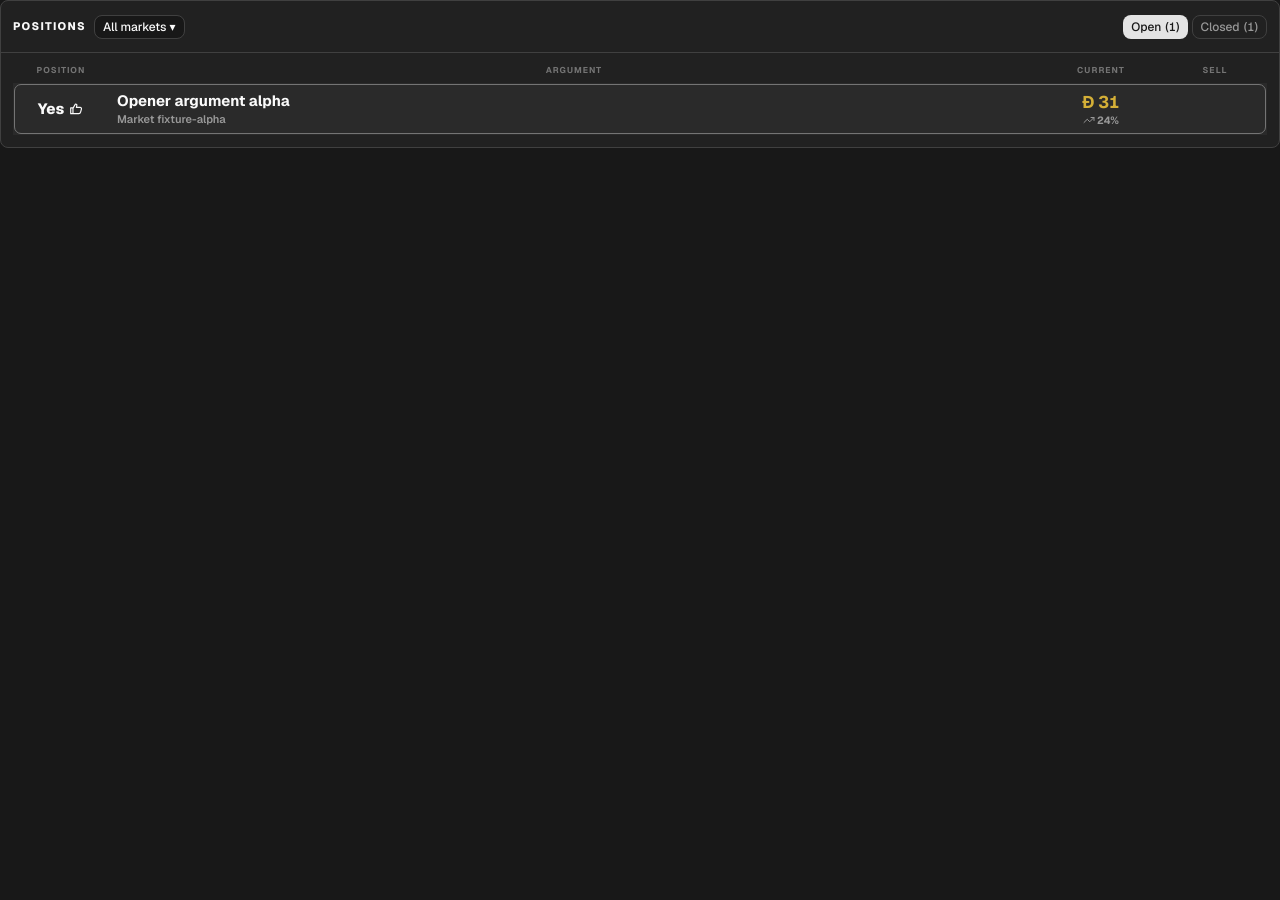
Test: HTML-FINISH profile rows 2 · 7 — the arena panels and their bars › row7a::click-OUT-closes-the-popover-canon-§5
Click the button with test id "positions-market-filter". click: point(139, 27)
box: 94,15 -> 184,39
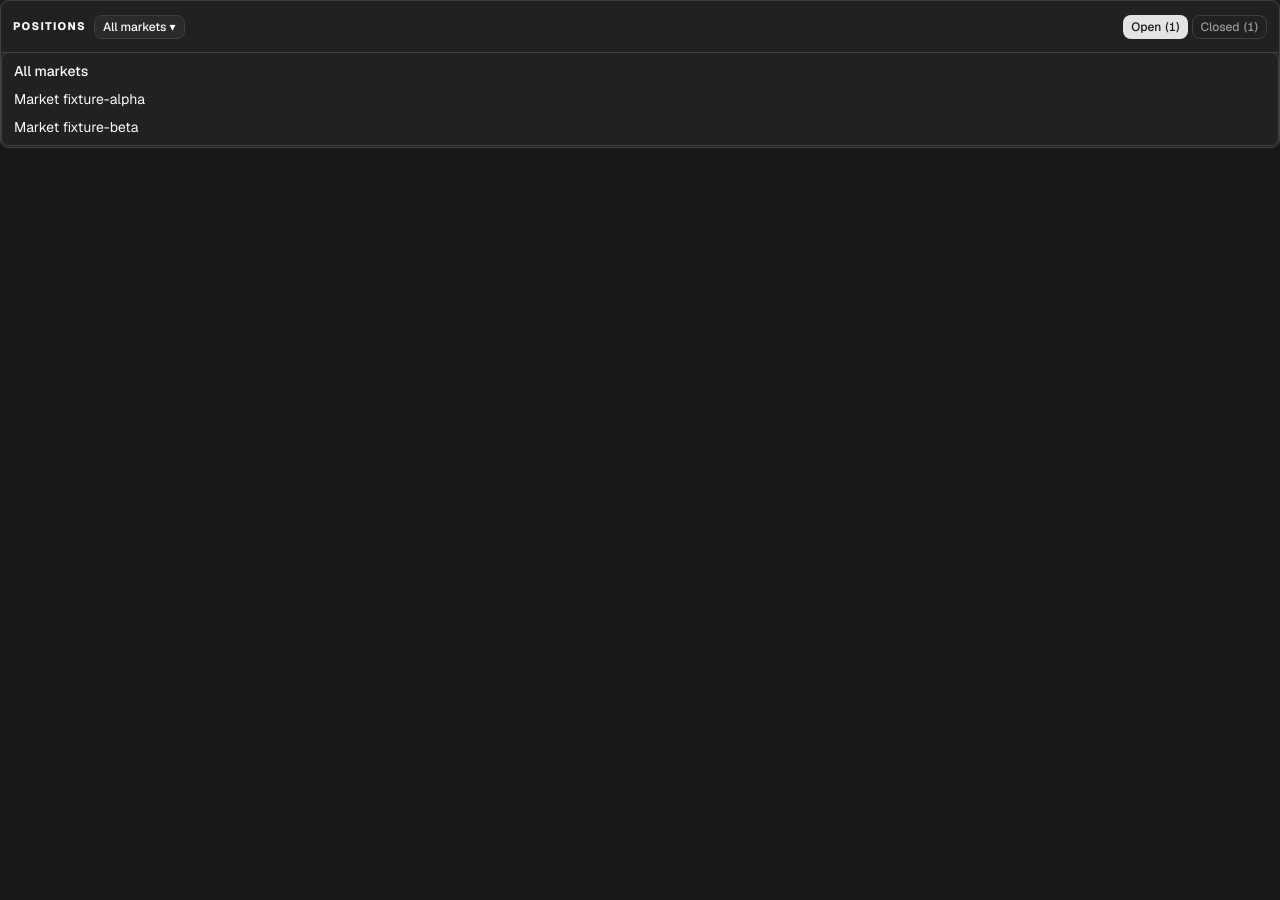
Expected: the list with test id "positions-market-popover" is shown, 1,52 -> 1279,146
Press the mouse on the element that starts with "Positions" at point(640, 450), box 0,0 -> 1279,899
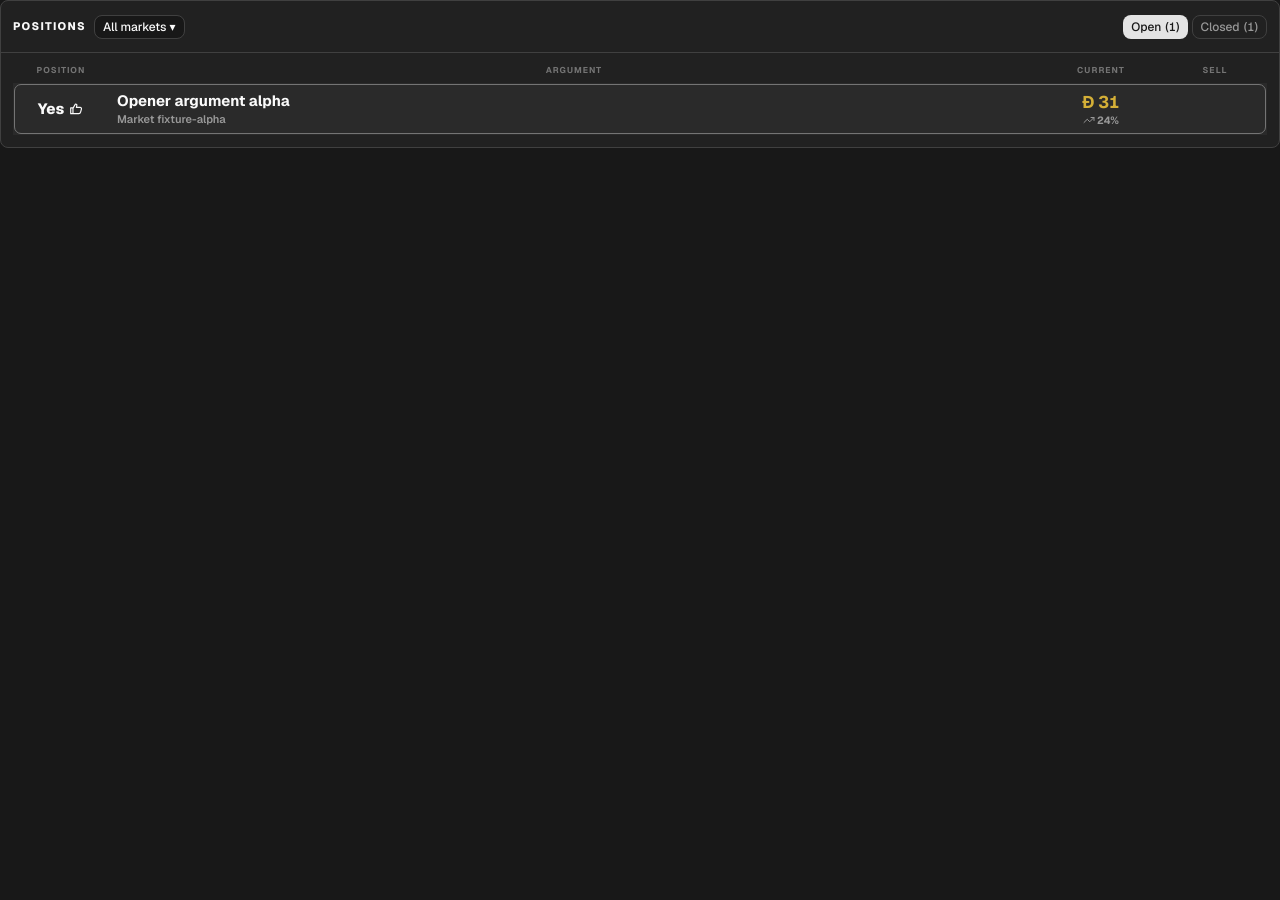
Expected: the list with test id "positions-market-popover" is gone
